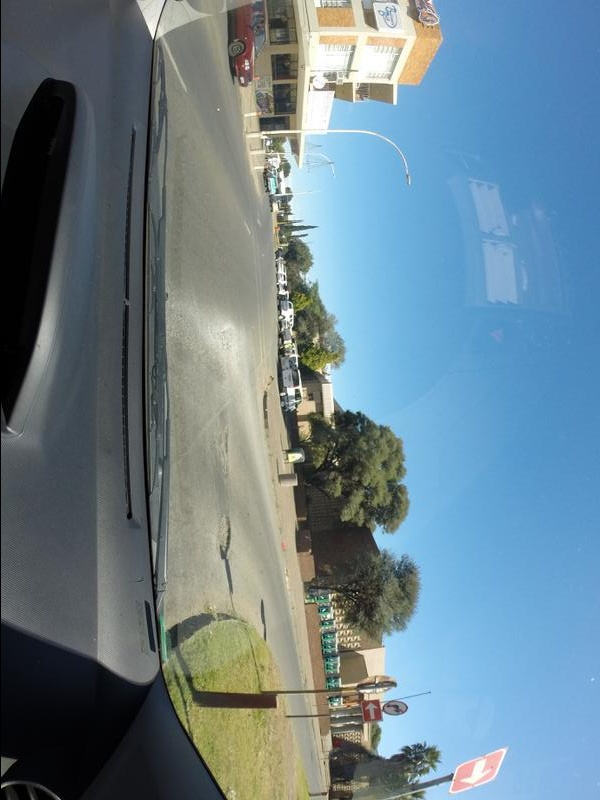pothole: (215, 512, 235, 566), (217, 429, 230, 472)
